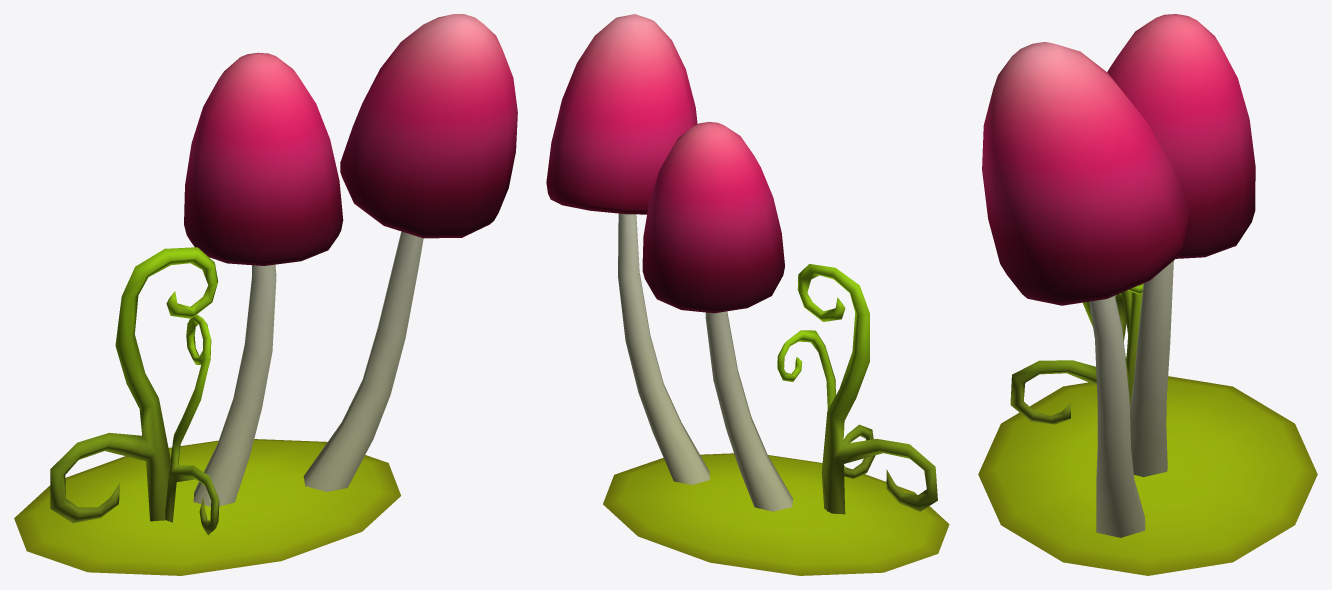
Rendered from Mushroom_F.fbx.
3 renders of one model, left to right at view 1: azimuth 30°, elevation 25°; view 2: azimuth 150°, elevation 25°; view 3: azimuth 270°, elevation 25°, orthographic. The views are drawn at different scales.
Visible parts, largest first — view 1: Mushroom_F; view 2: Mushroom_F; view 3: Mushroom_F.
Part boxes in pixels (bbox=[...]): Mushroom_F: bbox=[14, 14, 517, 575]; Mushroom_F: bbox=[546, 14, 949, 575]; Mushroom_F: bbox=[978, 14, 1317, 575].
Size of the model in its own units: 67.63 by 67.77 by 38.42.
